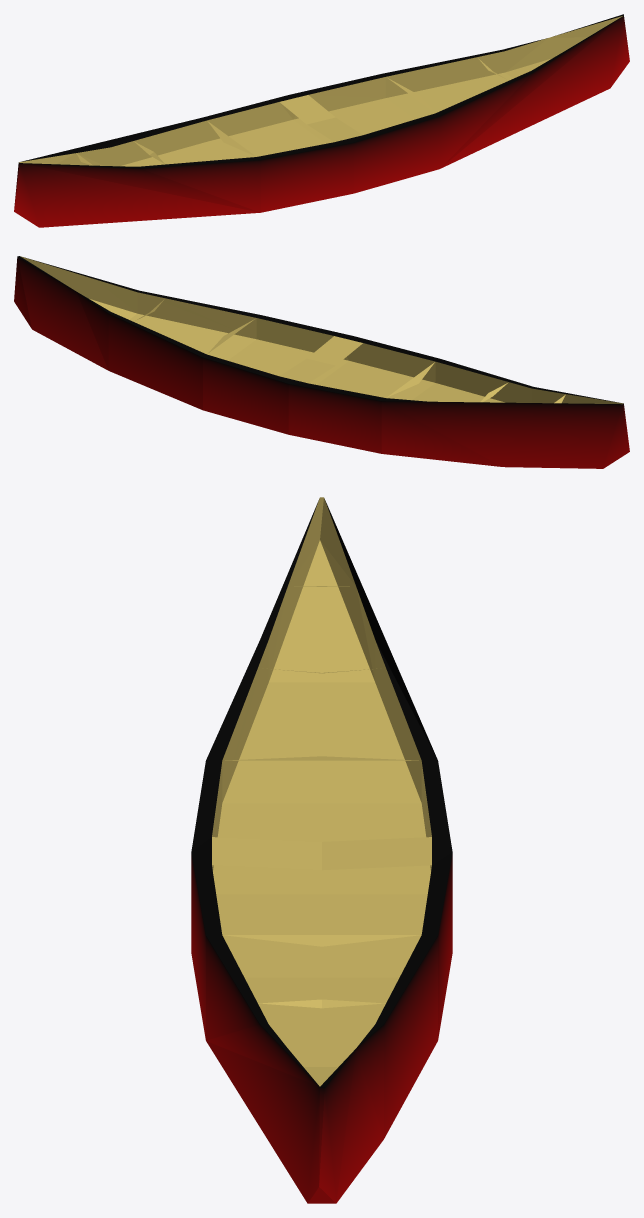
The model's file is canoe.lod2.glb.
The picture shows the model from 3 angles, top to bottom: view 1: azimuth 30°, elevation 25°; view 2: azimuth 150°, elevation 25°; view 3: azimuth 270°, elevation 25°; orthographic projection. The views are drawn at different scales.
Visible parts, largest first — view 1: Object_4; view 2: Object_4; view 3: Object_4.
Part boxes in pixels (x1,y1,x2,y2): Object_4: (14, 14, 629, 227); Object_4: (14, 256, 629, 468); Object_4: (191, 497, 452, 1203).
Bounding box in the file's own units: 4.6 × 0.5784 × 0.8446.
